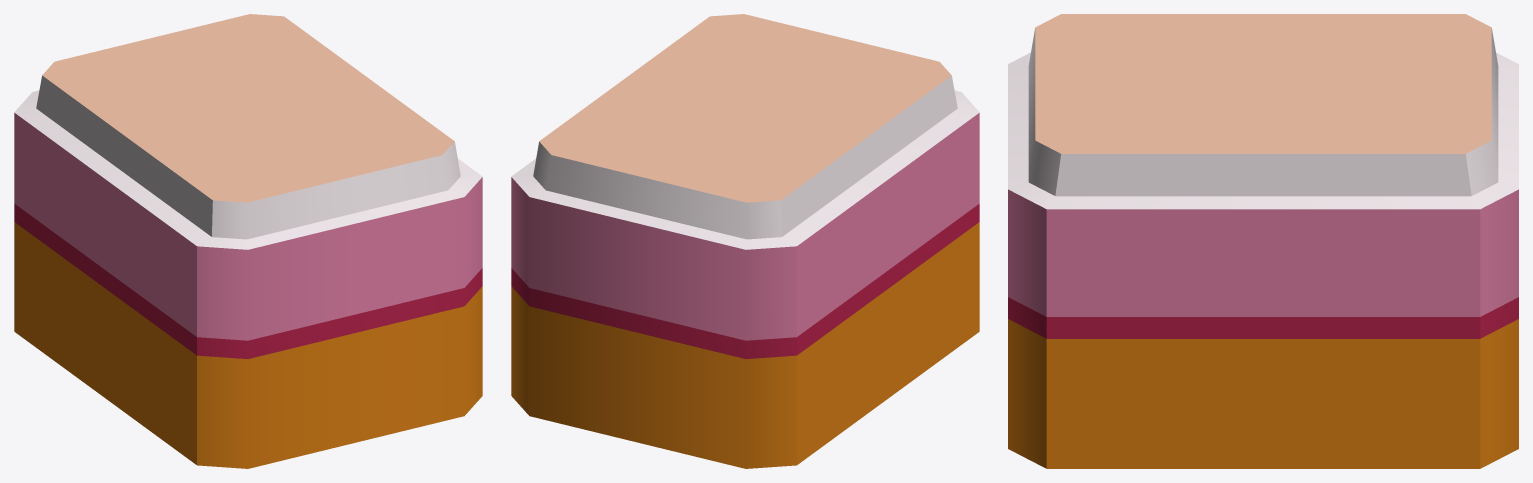
The model's file is Choco1-4.fbx.
3 renders of one model, left to right at view 1: azimuth 30°, elevation 25°; view 2: azimuth 150°, elevation 25°; view 3: azimuth 270°, elevation 25°, orthographic. The views are drawn at different scales.
Visible parts, largest first — view 1: Choco1-4; view 2: Choco1-4; view 3: Choco1-4.
Part boxes in pixels (left/top/right/bottom): Choco1-4: left=14, top=14, right=482, bottom=468; Choco1-4: left=511, top=14, right=979, bottom=468; Choco1-4: left=1008, top=14, right=1518, bottom=468.
Size of the model in its own units: 7.21 by 6.16 by 9.43.
